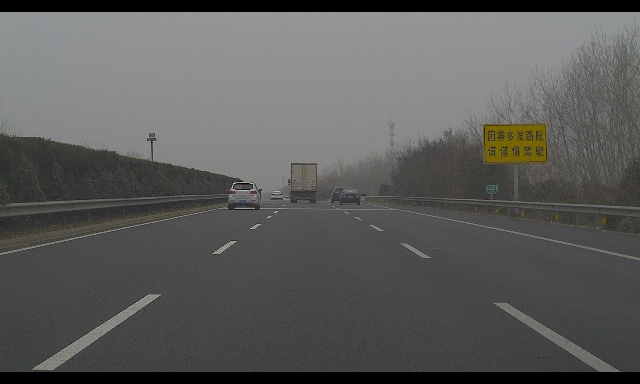car: (227, 181, 262, 210), (339, 188, 361, 205), (330, 187, 348, 203), (270, 191, 284, 200), (282, 196, 291, 201)
truck: (288, 163, 318, 204)
